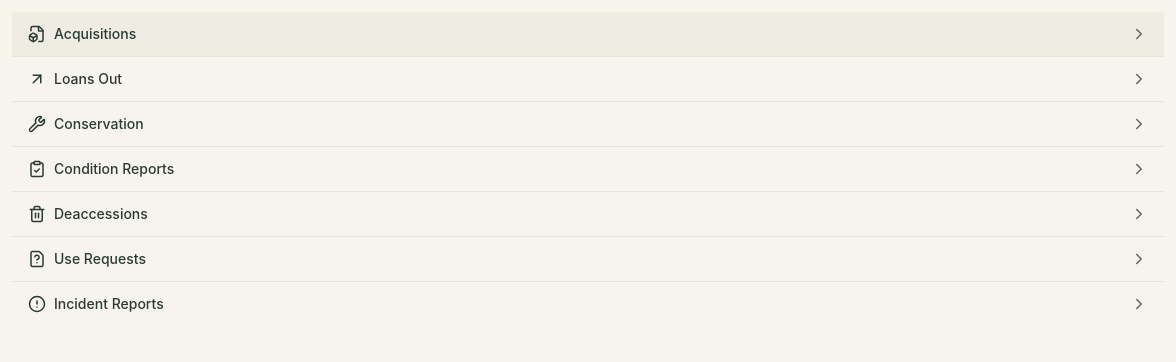
Test: RelatedProcedures › expands an empty section when its header is clicked, showing the empty message
Expected: the text "Acquisitions" is shown, top-left (54, 24), bottom-right (136, 44)
Click the button "Acquisitions".
click(95, 34)  # box top-left (12, 12), bottom-right (1164, 56)
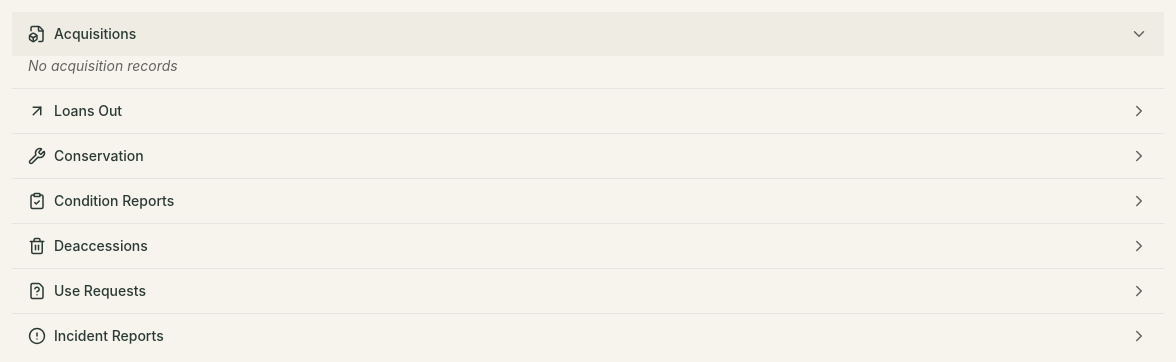
Expected: the text "No acquisition records" is shown, top-left (28, 57), bottom-right (178, 74)
